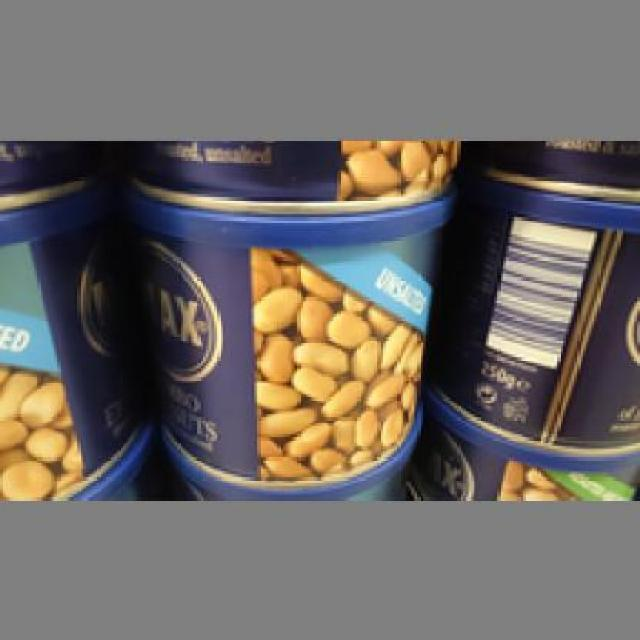Nuts: (114, 180, 460, 483)
